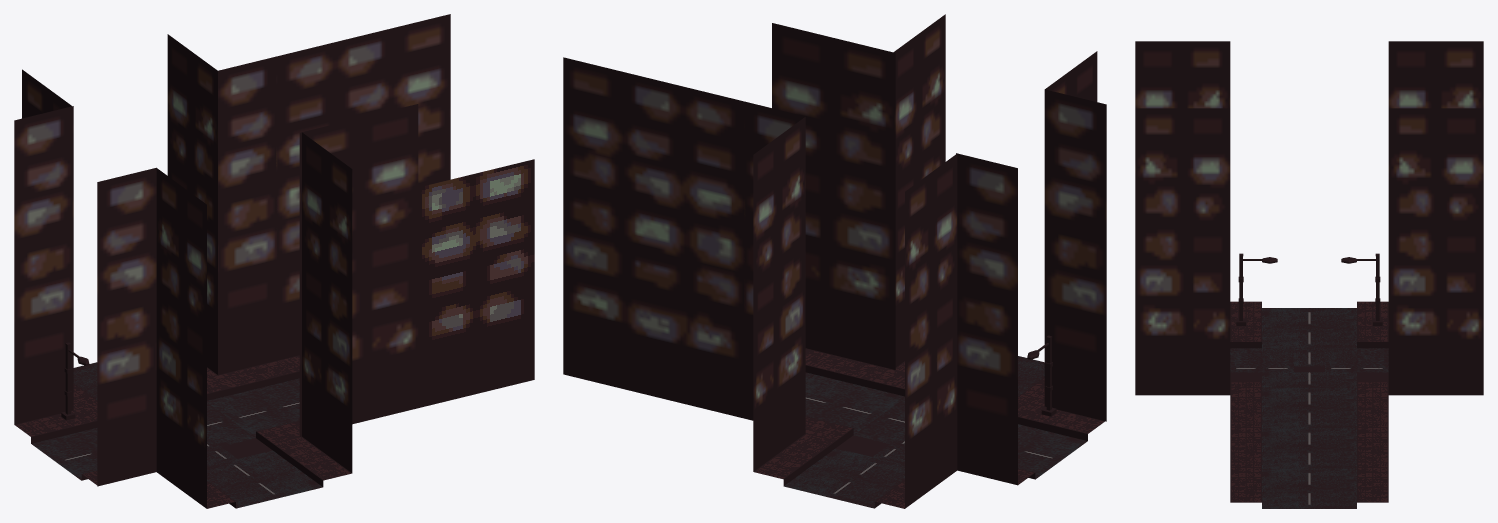
File: X_Turn.fbx
The picture shows the model from 3 angles, left to right: view 1: azimuth 30°, elevation 25°; view 2: azimuth 150°, elevation 25°; view 3: azimuth 270°, elevation 25°; orthographic projection. The views are drawn at different scales.
Visible parts, largest first — view 1: pPlane36, pPlane35, pPlane48, pPlane54, pPlane49, pPlane53, pPlane37, pPlane41, pPlane50, Road5, Road2, Road13 (+10 smaller); view 2: pPlane48, pPlane35, pPlane54, pPlane53, pPlane43, pPlane50, pPlane37, pPlane49, Road12, Road2, Road13, pPlane46 (+9 smaller); view 3: pPlane37, pPlane50, pPlane41, pPlane43, Road, Road1, Road2, Road13, Road7, Road4, Road10, pPlane6 (+10 smaller).
Part boxes in pixels (left/top/right/bottom): pPlane36: left=418, top=159, right=534, bottom=407; pPlane35: left=299, top=104, right=418, bottom=436; pPlane48: left=276, top=14, right=450, bottom=360; pPlane54: left=97, top=167, right=156, bottom=486; pPlane49: left=218, top=56, right=277, bottom=374; pPlane53: left=14, top=106, right=73, bottom=424; pPlane37: left=302, top=132, right=352, bottom=472; pPlane41: left=156, top=168, right=206, bottom=508; pPlane50: left=167, top=34, right=217, bottom=374; Road5: left=207, top=450, right=322, bottom=508; Road2: left=207, top=380, right=299, bottom=437; Road13: left=31, top=428, right=97, bottom=480; pPlane48: left=563, top=57, right=745, bottom=418; pPlane35: left=772, top=23, right=895, bottom=369; pPlane54: left=1044, top=89, right=1106, bottom=421; pPlane53: left=956, top=153, right=1017, bottom=485; pPlane43: left=905, top=154, right=957, bottom=508; pPlane50: left=753, top=117, right=805, bottom=471; pPlane37: left=893, top=14, right=945, bottom=367; pPlane49: left=744, top=101, right=805, bottom=420; Road12: left=784, top=448, right=904, bottom=508; Road2: left=805, top=374, right=904, bottom=434; Road13: left=1018, top=424, right=1087, bottom=479; pPlane46: left=754, top=433, right=835, bottom=479; pPlane37: left=1135, top=108, right=1230, bottom=395; pPlane50: left=1388, top=108, right=1483, bottom=395; pPlane41: left=1135, top=41, right=1230, bottom=108; pPlane43: left=1388, top=41, right=1483, bottom=108; Road: left=1262, top=468, right=1356, bottom=508; Road1: left=1262, top=428, right=1356, bottom=468; Road2: left=1262, top=388, right=1356, bottom=428; Road13: left=1262, top=308, right=1356, bottom=348; Road7: left=1262, top=372, right=1356, bottom=388; Road4: left=1230, top=348, right=1293, bottom=372; Road10: left=1325, top=348, right=1388, bottom=372; pPlane6: left=1357, top=462, right=1388, bottom=502.
Bounding box in the file's own units: 30.08 × 20.44 × 22.
8 materials, 8 textured.
